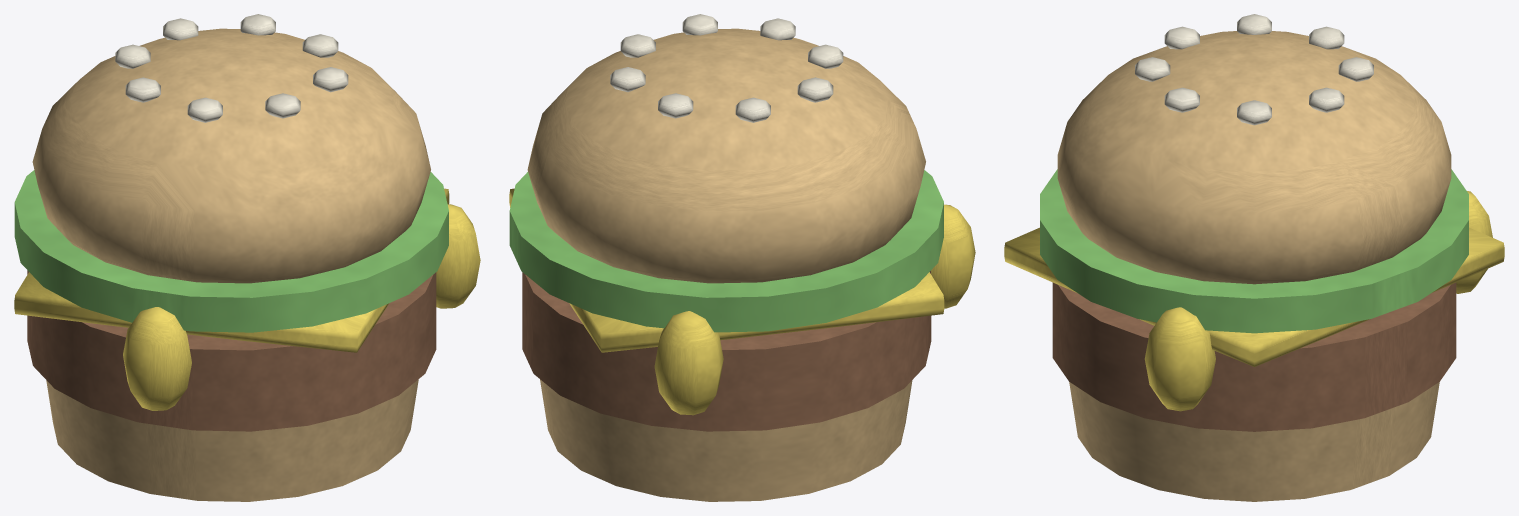
File: burger.glb
3 views of the same model, side by side, from view 1: azimuth 30°, elevation 25°; view 2: azimuth 150°, elevation 25°; view 3: azimuth 270°, elevation 25° (orthographic).
Visible parts, largest first — view 1: burger_body; view 2: burger_body; view 3: burger_body.
Boxes of the visible parts, x1,y1,x2,y2 form: burger_body: (14, 14, 480, 501); burger_body: (509, 14, 975, 501); burger_body: (1004, 14, 1504, 501).
Bounding box in the file's own units: 0.1963 × 0.1593 × 0.1963.
Materials: 6 (6 with a texture image).
